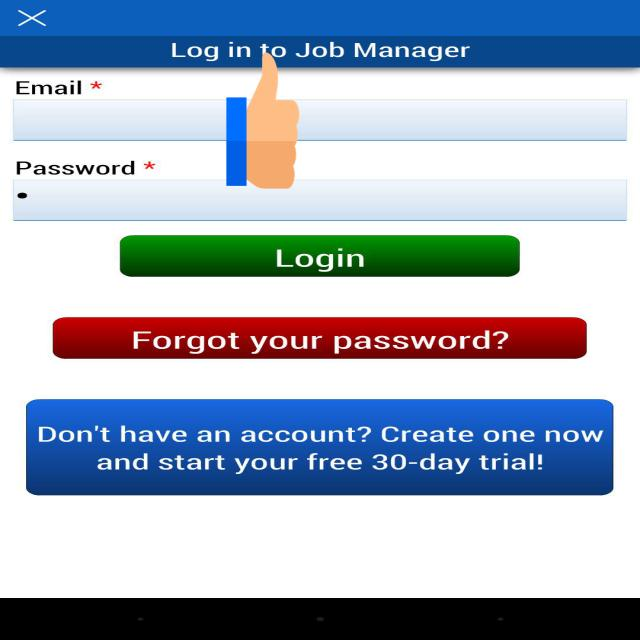privacy zuckering: (227, 49, 300, 192)
